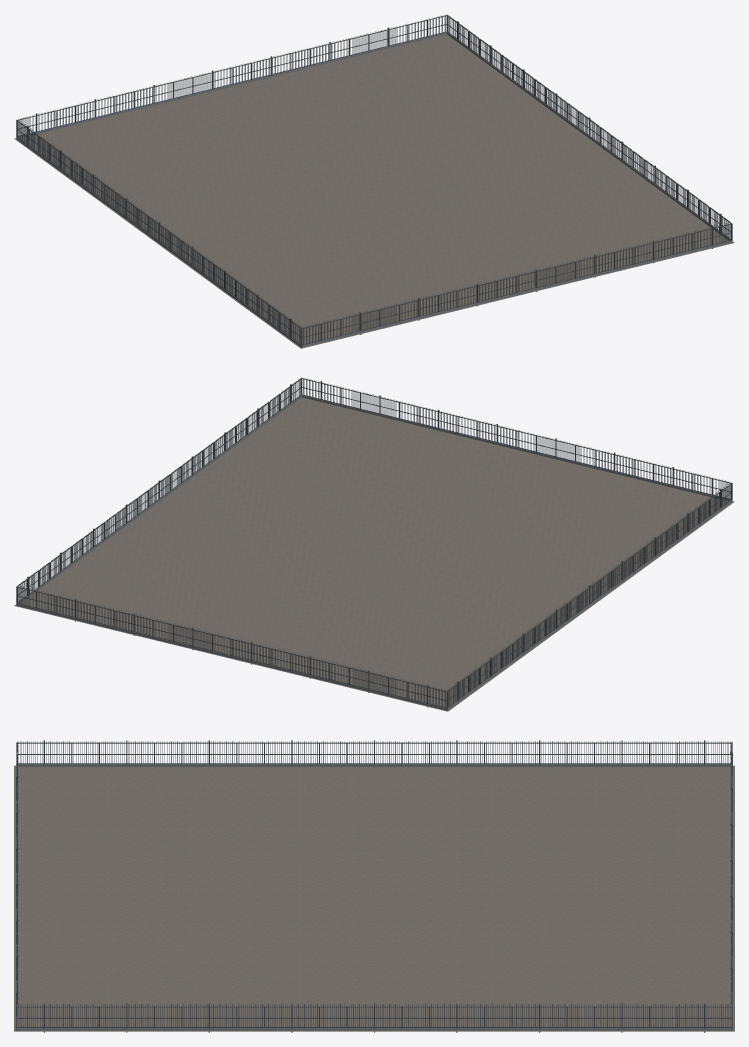
The model's file is fairytale.glb.
The picture shows the model from 3 angles, top to bottom: view 1: azimuth 30°, elevation 25°; view 2: azimuth 150°, elevation 25°; view 3: azimuth 270°, elevation 25°; orthographic projection. The views are drawn at different scales.
Visible parts, largest first — view 1: Utility paving, Angled security tip, Continuous concrete footing; view 2: Utility paving, Angled security tip, Continuous concrete footing; view 3: Utility paving, Angled security tip, Continuous concrete footing.
Boxes of the visible parts, x1=… form: Utility paving: x1=14, y1=34, x2=734, y2=348; Angled security tip: x1=16, y1=14, x2=732, y2=347; Continuous concrete footing: x1=16, y1=32, x2=732, y2=347; Utility paving: x1=14, y1=397, x2=734, y2=711; Angled security tip: x1=16, y1=377, x2=732, y2=710; Continuous concrete footing: x1=16, y1=395, x2=732, y2=710; Utility paving: x1=14, y1=765, x2=734, y2=1031; Angled security tip: x1=16, y1=740, x2=732, y2=1032; Continuous concrete footing: x1=16, y1=764, x2=732, y2=1030.
Bounding box in the file's own units: 172 × 8.58 × 197.
3 materials, 1 textured.
